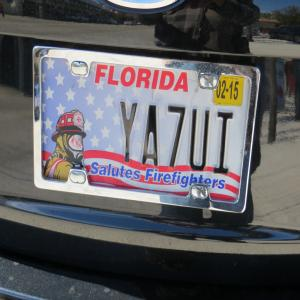Vehicle-registration-plate: (28, 48, 268, 210)
